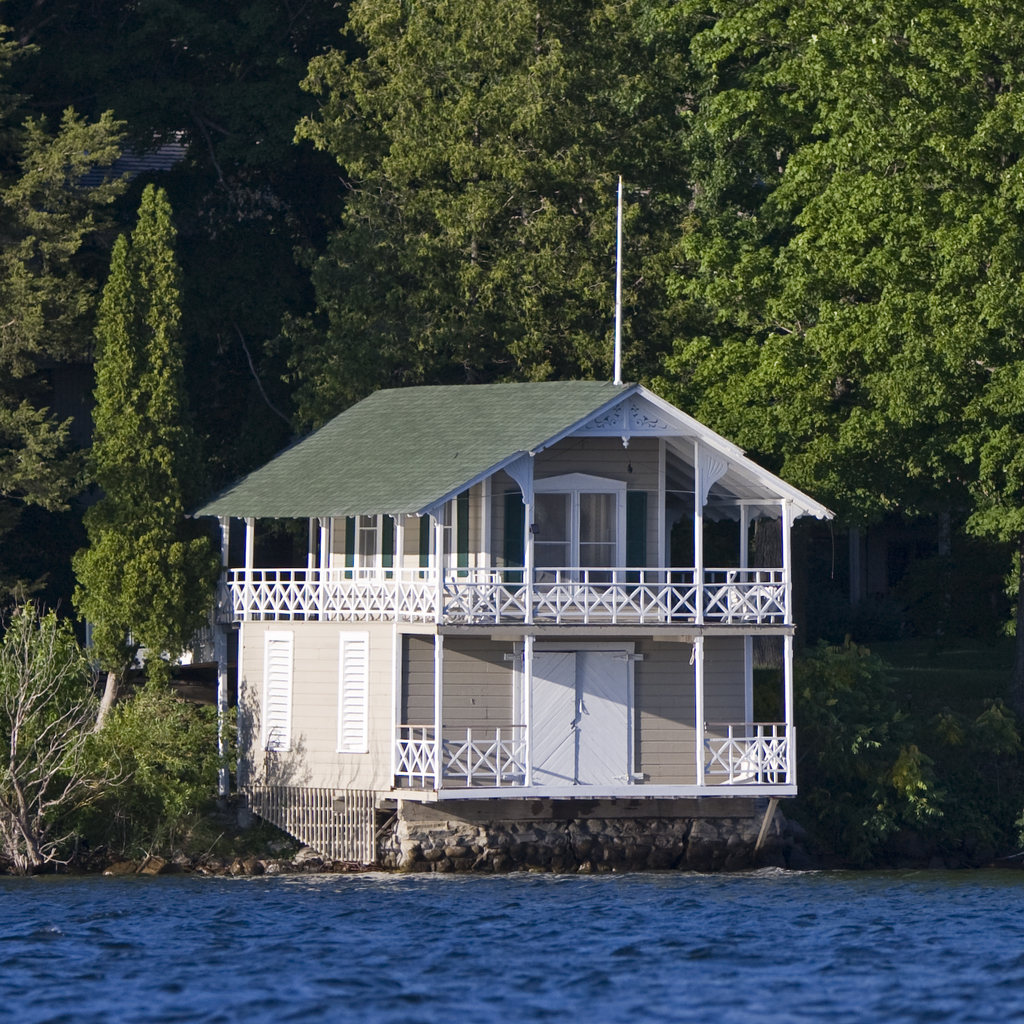Tree: (260, 0, 1024, 636), (70, 182, 219, 731), (0, 0, 336, 236), (0, 601, 242, 873), (0, 21, 127, 512)
